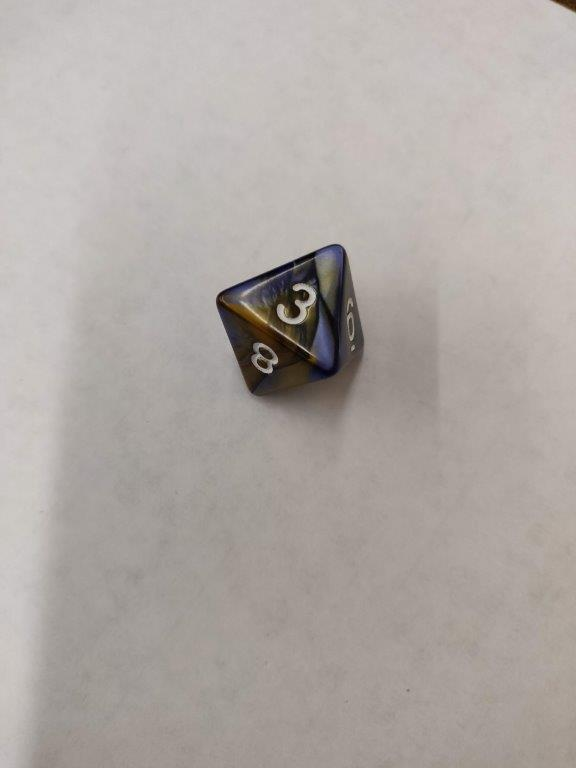d8-3: (215, 240, 366, 398)
